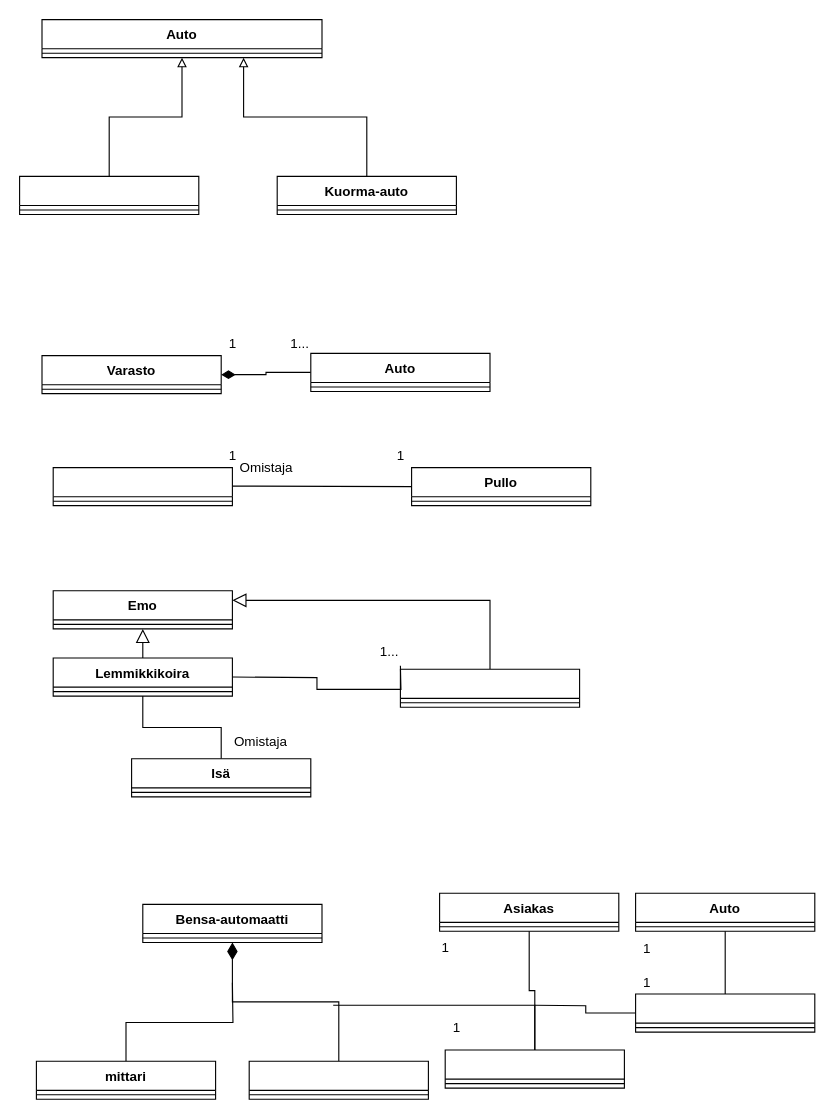
The diagram is 834 pixels wide and 1119 high, and some of its shapes have lost their labels. Here are the shapes that lost their labels. From the top down, the centre of each, then its label:
At point (108, 194): "Linja-auto".
At point (142, 486): "Henkilö".
At point (489, 687): "Sisarukset".
At point (724, 1012): "pistooli".
At point (338, 1079): "bensatankki".
At point (534, 1068): "maksuautomaatti".
